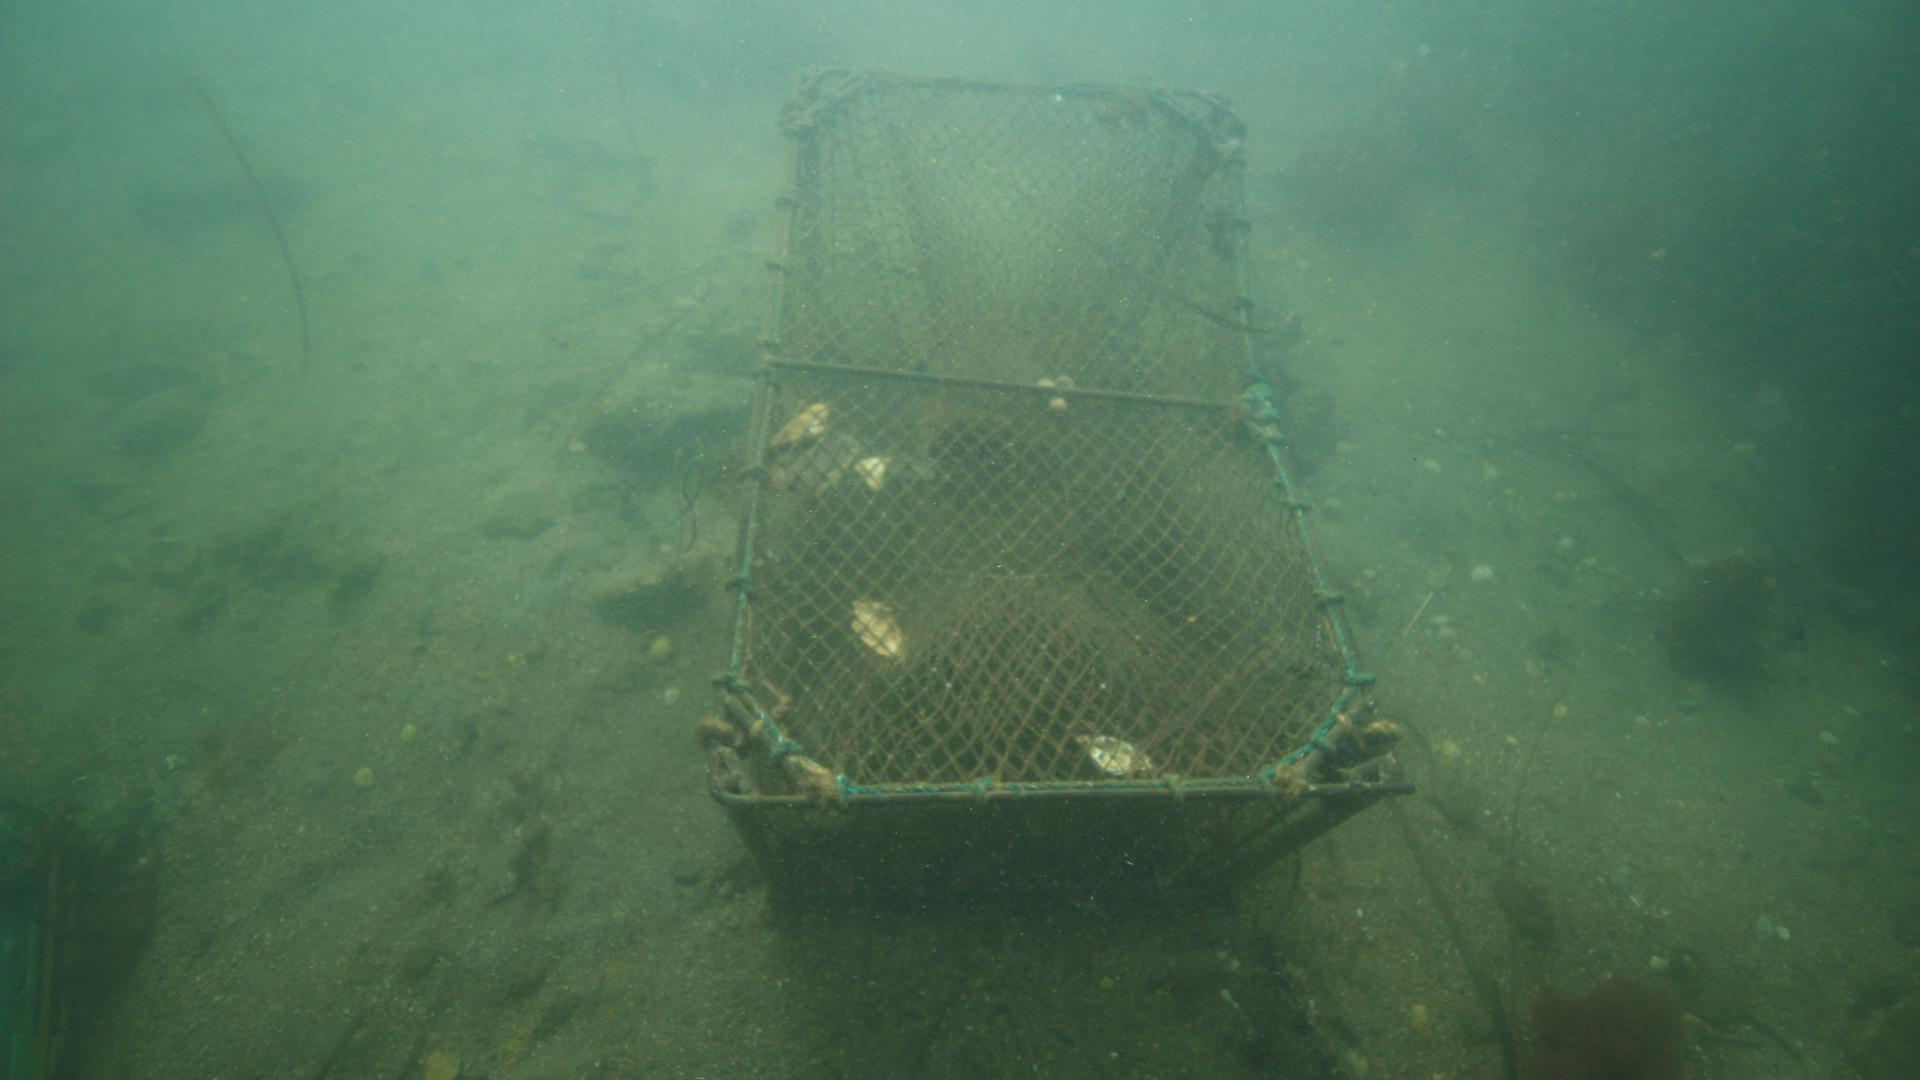rectangular fish trap: (702, 63, 1414, 899)
